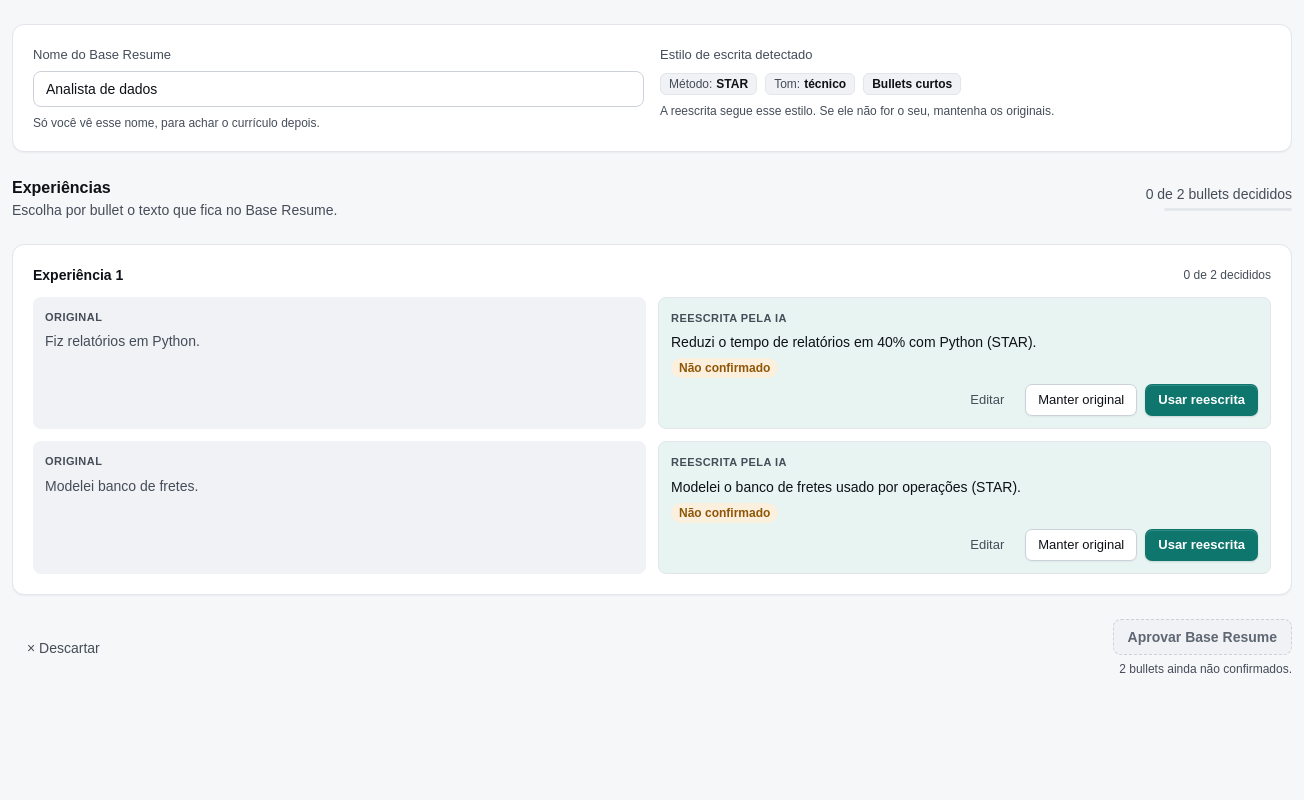
it: ProposalScreen › should let the person change a decision back to pending
Step 1. Click the 1st button "Usar reescrita" → (1202, 400), box 1145,384 -> 1258,416
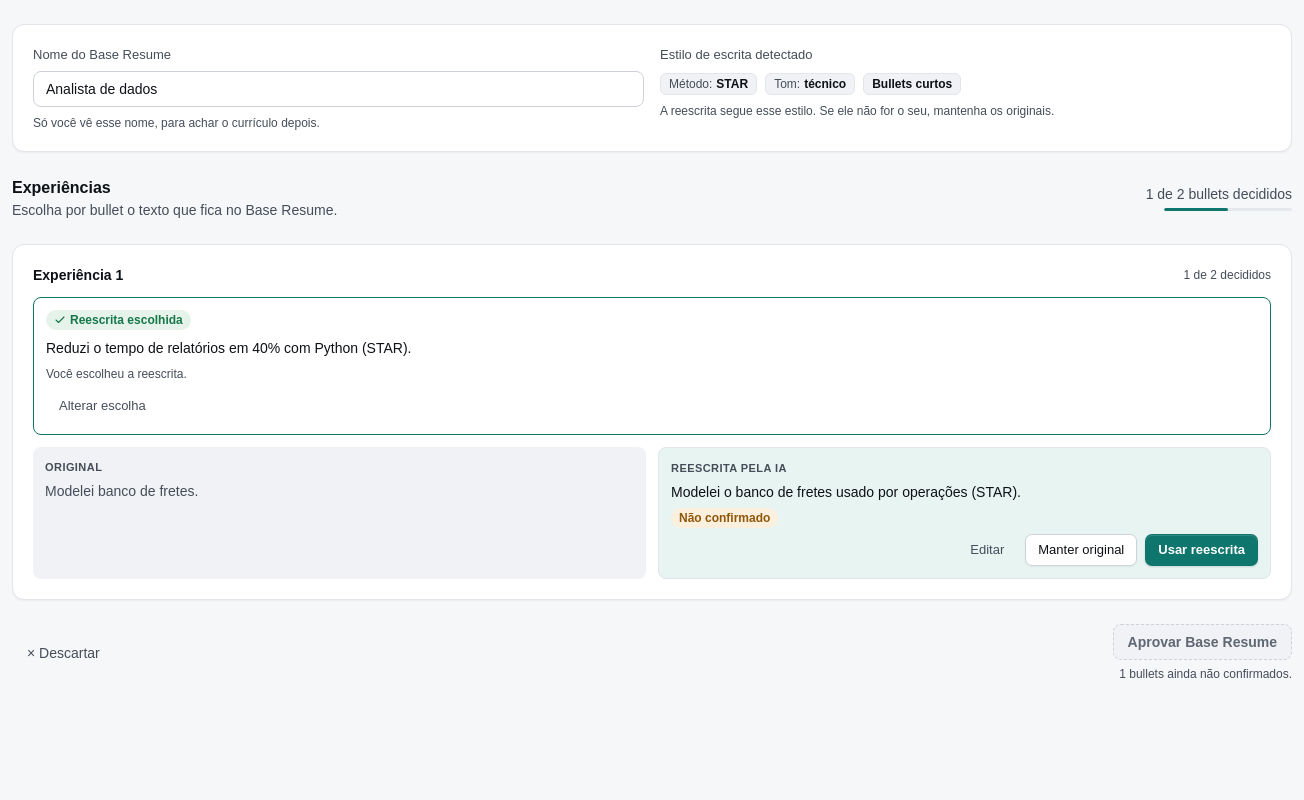
Expected: the text "1 de 2 bullets decididos" is shown, 1146,184 -> 1292,204
Step 2. Click the button "Alterar escolha" → (102, 406), box 46,390 -> 159,422
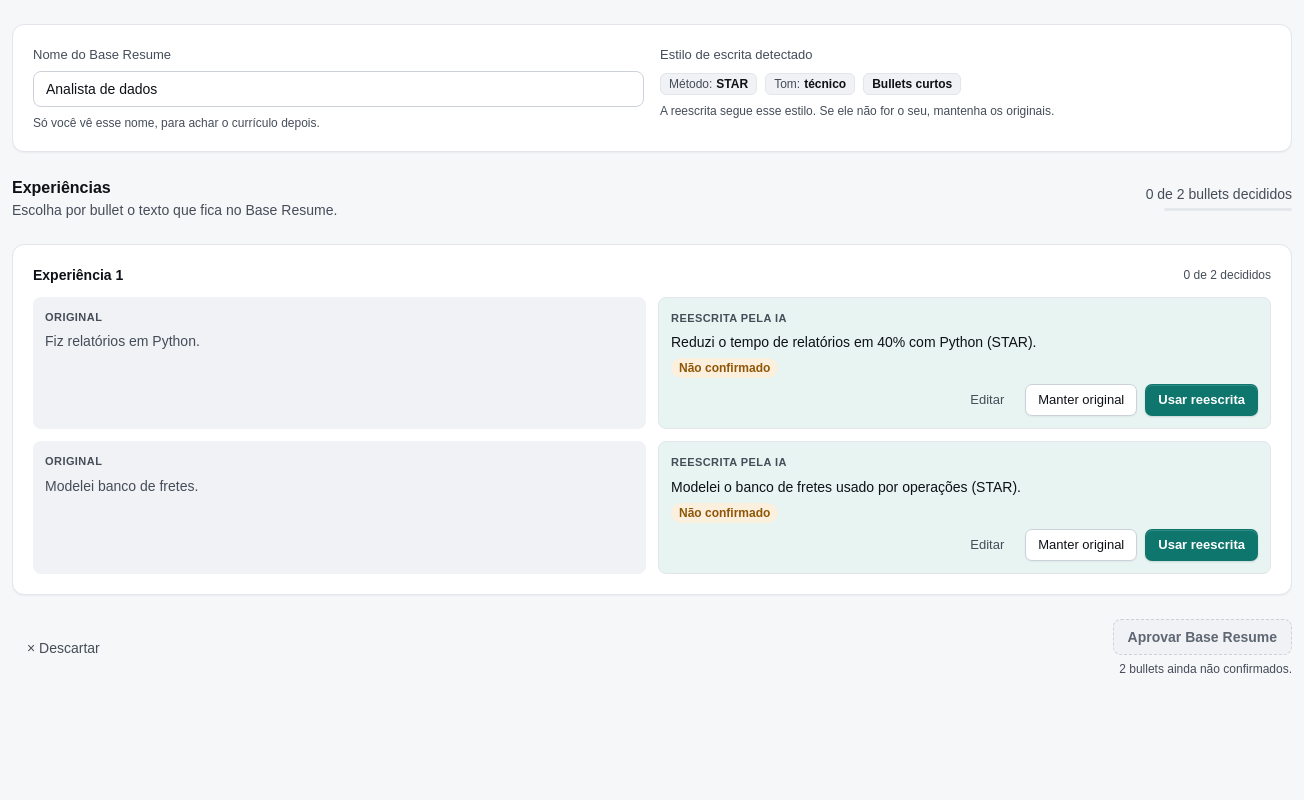
Expected: the text "0 de 2 bullets decididos" is shown, 1146,184 -> 1292,204
